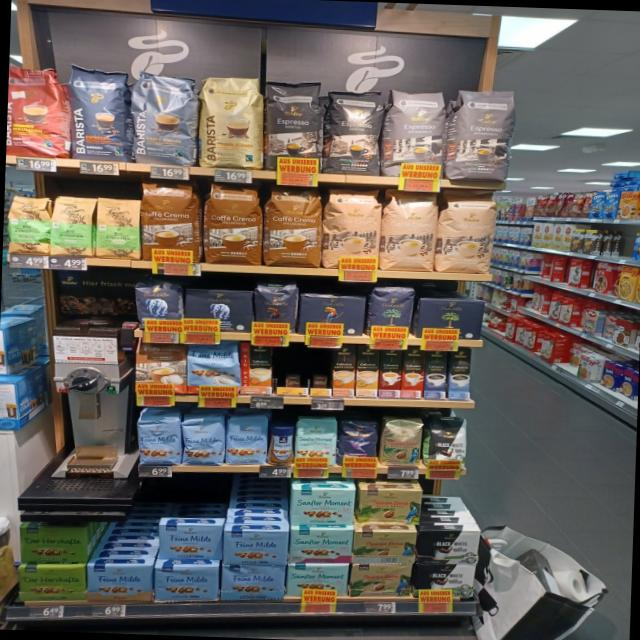AB Bohne: (131, 279, 184, 331)
AB Gemahlen: (182, 288, 255, 334)
Athiopien Bohne: (7, 193, 52, 255)
Athiopien Gemahlen: (94, 194, 142, 260), (48, 192, 95, 256)
BM Bohne: (367, 286, 415, 339)
BM Gemahlen: (415, 297, 485, 341)
BW Bohne: (422, 416, 469, 470)
BW Gemahlen: (416, 529, 481, 565), (412, 563, 474, 599)
Barista CB: (198, 74, 267, 170)
Barista CC: (132, 69, 201, 165)
Barista Espresso: (66, 64, 132, 162)
Barista Kolumbien: (6, 63, 70, 158)
C Fino Bohne: (337, 419, 380, 468)
CC Mild: (438, 188, 497, 273), (323, 185, 382, 269), (379, 190, 436, 272)
CC Vollmundig: (134, 343, 188, 395)
CC Vollmundig 36 Pads: (136, 178, 204, 262), (262, 185, 324, 268), (204, 182, 264, 266)
Colombia BB Bohne: (378, 418, 424, 467)
Colombia BB Gemahlen: (358, 488, 422, 526), (348, 562, 412, 599), (352, 529, 416, 565)
Espresso Aromatisch: (449, 88, 518, 181), (383, 84, 448, 180)
Espresso Kraftig: (262, 80, 326, 172), (322, 86, 384, 176)
FM 36 Pads: (185, 344, 240, 396)
FM Bohne: (136, 414, 182, 464), (180, 414, 224, 466), (226, 414, 269, 466)
FM Gemahlen: (152, 564, 220, 603), (86, 562, 152, 602), (156, 522, 222, 560), (220, 564, 285, 602), (222, 530, 288, 566)
FM Instant: (269, 422, 296, 466)
Herzhatfe Mundig: (19, 526, 89, 566), (15, 566, 86, 602)
LG Bohne: (252, 281, 299, 335)
LG Gemahlen: (297, 294, 366, 337)
SM Bohne: (294, 416, 338, 467)
SM Gemahlen: (291, 488, 355, 526), (289, 528, 353, 564), (287, 563, 349, 596)
Simo CCMild bigpack: (356, 345, 380, 396)
Simo CCVollmundig: (238, 342, 273, 395)
Simo CCVollmundig bigpack: (331, 345, 355, 397)
Simo Es Brazil: (401, 349, 423, 397)
Simo Es Caramel: (378, 348, 402, 398)
Simo Es Kraft: (424, 349, 446, 398)
Simo Es Vanilla: (448, 350, 471, 400)
